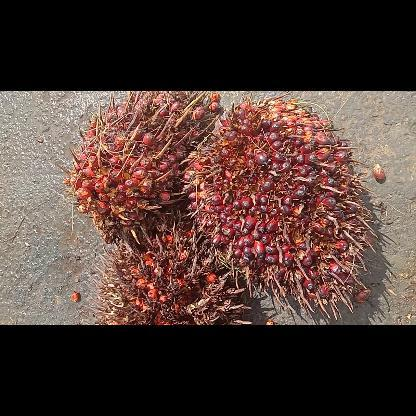TBS masak: (182, 91, 378, 319), (56, 91, 218, 243)
Terlalu masak: (82, 223, 252, 324)
